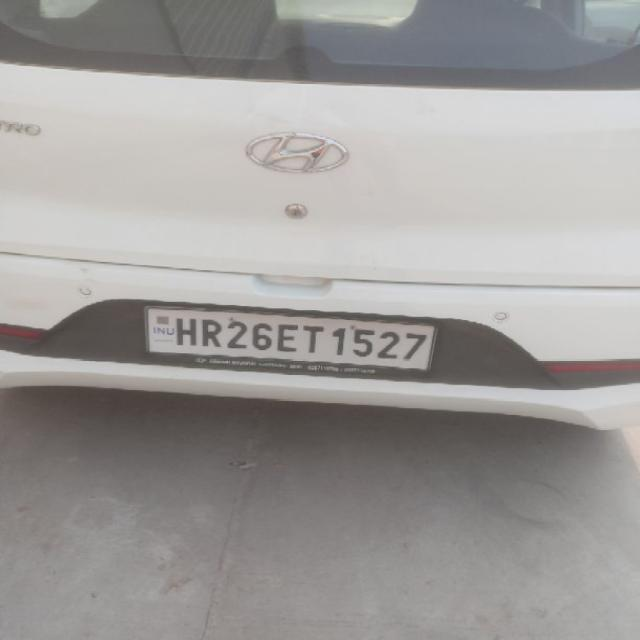license_plate: (142, 304, 439, 374)
